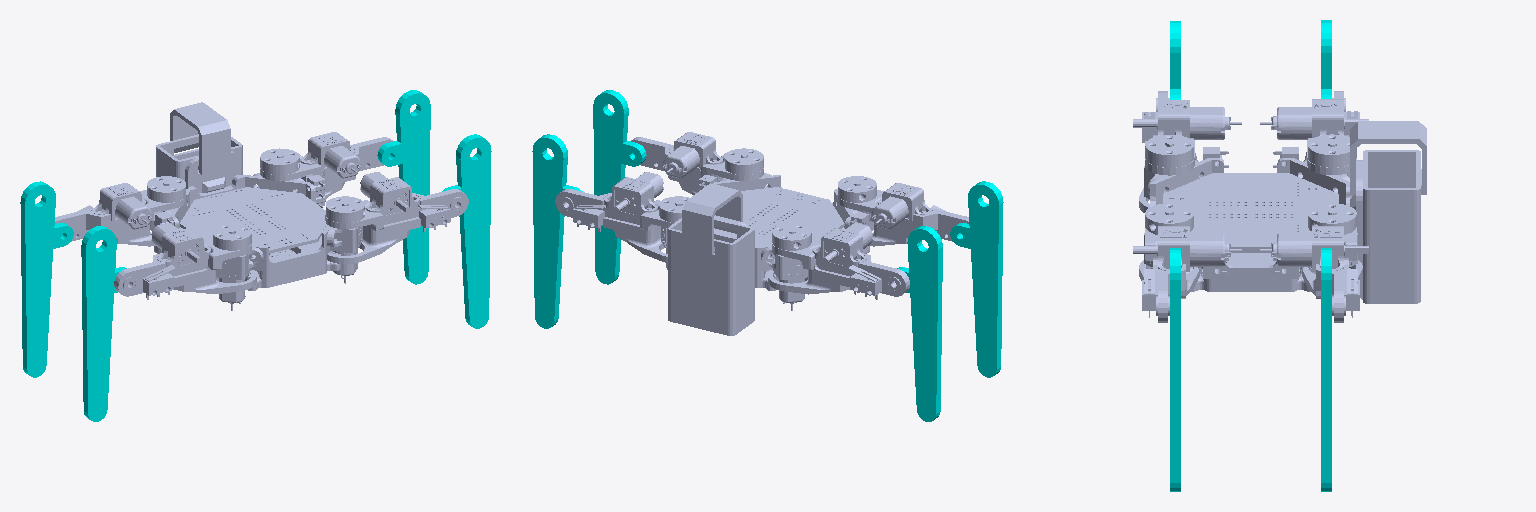
The robot description file, URDF, robot "spider-viz":
<?xml version="1.0" encoding="utf-8"?>
<!-- This URDF was automatically created by SolidWorks to URDF Exporter! Originally created by [author] ([email redacted]) 
     Commit Version: 1.6.0-4-g7f85cfe  Build Version: 1.6.7995.38578
     For more information, please see http://wiki.ros.org/sw_urdf_exporter -->
<robot
  name="spider-viz">
  <link
    name="base_link">
    <inertial>
      <origin
        xyz="0.0266900629514275 0.0373682215528626 0.0414401671660664"
        rpy="0 0 0" />
      <mass
        value="0.0599747186219502" />
      <inertia
        ixx="1.77017378156563E-05"
        ixy="8.82629017457995E-11"
        ixz="4.93027123446305E-10"
        iyy="2.88229975274139E-05"
        iyz="5.45278550957386E-08"
        izz="1.74156454854551E-05" />
    </inertial>
    <visual>
      <origin
        xyz="0 0 0"
        rpy="0 0 0" />
      <geometry>
        <mesh
          filename="package://spider-viz/meshes/base_link.STL" />
      </geometry>
      <material
        name="">
        <color
          rgba="0.792156862745098 0.819607843137255 0.933333333333333 1" />
      </material>
    </visual>
    <collision>
      <origin
        xyz="0 0 0"
        rpy="0 0 0" />
      <geometry>
        <mesh
          filename="package://spider-viz/meshes/base_link.STL" />
      </geometry>
    </collision>
  </link>
  <link
    name="Upper0_Link">
    <inertial>
      <origin
        xyz="0.021476139074384 0.015254727578512 -0.0014907670536348"
        rpy="0 0 0" />
      <mass
        value="0.0112993413960727" />
      <inertia
        ixx="4.17757958138213E-07"
        ixy="6.32246142390847E-08"
        ixz="-4.83397104885625E-08"
        iyy="1.7602699581182E-06"
        iyz="-7.47401160587861E-10"
        izz="1.54529235020534E-06" />
    </inertial>
    <visual>
      <origin
        xyz="0 0 0"
        rpy="0 0 0" />
      <geometry>
        <mesh
          filename="package://spider-viz/meshes/Upper0_Link.STL" />
      </geometry>
      <material
        name="">
        <color
          rgba="0.792156862745098 0.819607843137255 0.933333333333333 1" />
      </material>
    </visual>
    <collision>
      <origin
        xyz="0 0 0"
        rpy="0 0 0" />
      <geometry>
        <mesh
          filename="package://spider-viz/meshes/Upper0_Link.STL" />
      </geometry>
    </collision>
  </link>
  <joint
    name="Upper0"
    type="revolute">
    <origin
      xyz="-0.00245284745286685 -0.0237725392912402 0.0320074126580795"
      rpy="1.5707963267949 0 3.14159265358979" />
    <parent
      link="base_link" />
    <child
      link="Upper0_Link" />
    <axis
      xyz="0 1 0" />
    <limit
      effort="1000.0" lower="-1.57" upper="0.17" velocity="0.5"/>
  </joint>
  <link
    name="Lower0_Link">
    <inertial>
      <origin
        xyz="-0.00200000000000073 -0.0121644422551732 0.0152866791815001"
        rpy="0 0 0" />
      <mass
        value="0.00511403475106287" />
      <inertia
        ixx="3.40097557199021E-06"
        ixy="-4.0355113211309E-22"
        ixz="4.91401358931856E-22"
        iyy="3.28327036320465E-06"
        iyz="1.35078946161002E-07"
        izz="1.31342634788399E-07" />
    </inertial>
    <visual>
      <origin
        xyz="0 0 0"
        rpy="0 0 0" />
      <geometry>
        <mesh
          filename="package://spider-viz/meshes/Lower0_Link.STL" />
      </geometry>
      <material
        name="">
        <color
          rgba="0 1 1 1" />
      </material>
    </visual>
    <collision>
      <origin
        xyz="0 0 0"
        rpy="0 0 0" />
      <geometry>
        <mesh
          filename="package://spider-viz/meshes/Lower0_Link.STL" />
      </geometry>
    </collision>
  </link>
  <joint
    name="Lower0"
    type="revolute">
    <origin
      xyz="0.0550943670538193 0.01315 -9.9999999999479E-05"
      rpy="1.57079632679491 -1.5707963267949 0" />
    <parent
      link="Upper0_Link" />
    <child
      link="Lower0_Link" />
    <axis
      xyz="1 0 0" />
    <limit
      effort="1000.0" lower="-0.96" upper="0.70" velocity="0.5"/>
  </joint>
  <link
    name="Upper1_Link">
    <inertial>
      <origin
        xyz="0.0213801728228362 0.0152547283369141 0.0014673545578197"
        rpy="0 0 0" />
      <mass
        value="0.0112993383446934" />
      <inertia
        ixx="4.17757830091756E-07"
        ixy="6.31950953264347E-08"
        ixz="4.92357002610727E-08"
        iyy="1.76026956304799E-06"
        iyz="7.53422005757815E-10"
        izz="1.54529208399824E-06" />
    </inertial>
    <visual>
      <origin
        xyz="0 0 0"
        rpy="0 0 0" />
      <geometry>
        <mesh
          filename="package://spider-viz/meshes/Upper1_Link.STL" />
      </geometry>
      <material
        name="">
        <color
          rgba="0.792156862745098 0.819607843137255 0.933333333333333 1" />
      </material>
    </visual>
    <collision>
      <origin
        xyz="0 0 0"
        rpy="0 0 0" />
      <geometry>
        <mesh
          filename="package://spider-viz/meshes/Upper1_Link.STL" />
      </geometry>
    </collision>
  </link>
  <joint
    name="Upper1"
    type="revolute">
    <origin
      xyz="-0.0024528474528662 -0.0820568105387026 0.0320074126580794"
      rpy="1.5707963267949 0 3.14159265358979" />
    <parent
      link="base_link" />
    <child
      link="Upper1_Link" />
    <axis
      xyz="0 1 0" />
      <limit
      effort="1000.0" lower="-0.17" upper="1.85" velocity="0.5"/>
  </joint>
  <link
    name="Lower1_Link">
    <inertial>
      <origin
        xyz="0.0020000000000001 -0.012164442255174 0.0152866791815"
        rpy="0 0 0" />
      <mass
        value="0.00511403475106288" />
      <inertia
        ixx="3.40097557199021E-06"
        ixy="-4.11618944416582E-22"
        ixz="5.39851538017933E-22"
        iyy="3.28327036320465E-06"
        iyz="1.35078946161002E-07"
        izz="1.31342634788399E-07" />
    </inertial>
    <visual>
      <origin
        xyz="0 0 0"
        rpy="0 0 0" />
      <geometry>
        <mesh
          filename="package://spider-viz/meshes/Lower1_Link.STL" />
      </geometry>
      <material
        name="">
        <color
          rgba="0 1 1 1" />
      </material>
    </visual>
    <collision>
      <origin
        xyz="0 0 0"
        rpy="0 0 0" />
      <geometry>
        <mesh
          filename="package://spider-viz/meshes/Lower1_Link.STL" />
      </geometry>
    </collision>
  </link>
  <joint
    name="Lower1"
    type="revolute">
    <origin
      xyz="0.055 0.0131500000000001 9.99999999997392E-05"
      rpy="1.57079632679491 -1.5707963267949 0" />
    <parent
      link="Upper1_Link" />
    <child
      link="Lower1_Link" />
    <axis
      xyz="1 0 0" />
    <limit
      effort="1000.0" lower="-0.96" upper="0.70" velocity="0.5"/>
  </joint>
  <link
    name="Upper2_Link">
    <inertial>
      <origin
        xyz="0.0214745398766555 0.0152547283369141 0.00146735455781985"
        rpy="0 0 0" />
      <mass
        value="0.0112993383446934" />
      <inertia
        ixx="4.17757830091755E-07"
        ixy="6.31950953264345E-08"
        ixz="4.92357002610657E-08"
        iyy="1.76026956304799E-06"
        iyz="7.53422005758282E-10"
        izz="1.54529208399824E-06" />
    </inertial>
    <visual>
      <origin
        xyz="0 0 0"
        rpy="0 0 0" />
      <geometry>
        <mesh
          filename="package://spider-viz/meshes/Upper2_Link.STL" />
      </geometry>
      <material
        name="">
        <color
          rgba="0.792156862745098 0.819607843137255 0.933333333333333 1" />
      </material>
    </visual>
    <collision>
      <origin
        xyz="0 0 0"
        rpy="0 0 0" />
      <geometry>
        <mesh
          filename="package://spider-viz/meshes/Upper2_Link.STL" />
      </geometry>
    </collision>
  </link>
  <joint
    name="Upper2"
    type="revolute">
    <origin
      xyz="0.055831423794595 -0.02377253929124 0.0320074126580794"
      rpy="1.5707963267949 0 0" />
    <parent
      link="base_link" />
    <child
      link="Upper2_Link" />
    <axis
      xyz="0 1 0" />
    <limit
      effort="1000.0" lower="-0.17" upper="1.57" velocity="0.5"/>
  </joint>
  <link
    name="Lower2_Link">
    <inertial>
      <origin
        xyz="0.00200000000000116 -0.0121644422551723 0.0152866791815003"
        rpy="0 0 0" />
      <mass
        value="0.00511403475106288" />
      <inertia
        ixx="3.40097557199021E-06"
        ixy="-2.42025679605417E-21"
        ixz="6.79340847722994E-20"
        iyy="3.28327036320465E-06"
        iyz="1.35078946160937E-07"
        izz="1.31342634788394E-07" />
    </inertial>
    <visual>
      <origin
        xyz="0 0 0"
        rpy="0 0 0" />
      <geometry>
        <mesh
          filename="package://spider-viz/meshes/Lower2_Link.STL" />
      </geometry>
      <material
        name="">
        <color
          rgba="0 1 1 1" />
      </material>
    </visual>
    <collision>
      <origin
        xyz="0 0 0"
        rpy="0 0 0" />
      <geometry>
        <mesh
          filename="package://spider-viz/meshes/Lower2_Link.STL" />
      </geometry>
    </collision>
  </link>
  <joint
    name="Lower2"
    type="revolute">
    <origin
      xyz="0.0550943670538194 0.0131500000000001 0.000100000000000329"
      rpy="1.57079632679489 -1.5707963267949 0" />
    <parent
      link="Upper2_Link" />
    <child
      link="Lower2_Link" />
    <axis
      xyz="1 0 0" />
    <limit
      effort="1000.0" lower="-0.96" upper="0.70" velocity="0.5"/>
  </joint>
  <link
    name="Upper3_Link">
    <inertial>
      <origin
        xyz="0.0214761390743841 0.0152547275785121 -0.00149076705363482"
        rpy="0 0 0" />
      <mass
        value="0.0112993413960727" />
      <inertia
        ixx="4.17757958138214E-07"
        ixy="6.32246142390847E-08"
        ixz="-4.83397104885701E-08"
        iyy="1.76026995811821E-06"
        iyz="-7.47401160587356E-10"
        izz="1.54529235020535E-06" />
    </inertial>
    <visual>
      <origin
        xyz="0 0 0"
        rpy="0 0 0" />
      <geometry>
        <mesh
          filename="package://spider-viz/meshes/Upper3_Link.STL" />
      </geometry>
      <material
        name="">
        <color
          rgba="0.792156862745098 0.819607843137255 0.933333333333333 1" />
      </material>
    </visual>
    <collision>
      <origin
        xyz="0 0 0"
        rpy="0 0 0" />
      <geometry>
        <mesh
          filename="package://spider-viz/meshes/Upper3_Link.STL" />
      </geometry>
    </collision>
  </link>
  <joint
    name="Upper3"
    type="revolute">
    <origin
      xyz="0.0558314237945942 -0.082056810538703 0.0320074126580794"
      rpy="1.5707963267949 0 0" />
    <parent
      link="base_link" />
    <child
      link="Upper3_Link" />
    <axis
      xyz="0 1 0" />
    <limit
      effort="1000.0" lower="-1.85" upper="0.17" velocity="0.5"/>
  </joint>
  <link
    name="Lower3_Link">
    <inertial>
      <origin
        xyz="-0.00200000000000015 -0.0121644422551734 0.0152866791814997"
        rpy="0 0 0" />
      <mass
        value="0.00511403475106288" />
      <inertia
        ixx="3.40097557199022E-06"
        ixy="-1.22157413983963E-21"
        ixz="1.42154197655372E-21"
        iyy="3.28327036320466E-06"
        iyz="1.35078946160937E-07"
        izz="1.31342634788394E-07" />
    </inertial>
    <visual>
      <origin
        xyz="0 0 0"
        rpy="0 0 0" />
      <geometry>
        <mesh
          filename="package://spider-viz/meshes/Lower3_Link.STL" />
      </geometry>
      <material
        name="">
        <color
          rgba="0 1 1 1" />
      </material>
    </visual>
    <collision>
      <origin
        xyz="0 0 0"
        rpy="0 0 0" />
      <geometry>
        <mesh
          filename="package://spider-viz/meshes/Lower3_Link.STL" />
      </geometry>
    </collision>
  </link>
  <joint
    name="Lower3"
    type="revolute">
    <origin
      xyz="0.0550943670538194 0.0131500000000001 -0.000100000000001266"
      rpy="1.57079632679489 -1.5707963267949 0" />
    <parent
      link="Upper3_Link" />
    <child
      link="Lower3_Link" />
    <axis
      xyz="1 0 0" />
    <limit
      effort="1000.0" lower="-0.96" upper="0.70" velocity="0.5"/>
  </joint>
</robot>

--- Render facts (derived) ---
Views: 3 orthographic renders of the robot side by side, from view 1: azimuth 30°, elevation 25°; view 2: azimuth 150°, elevation 25°; view 3: azimuth 270°, elevation 25°.
Model spider-viz with 9 links and 8 joints (8 revolute), rooted at base_link, posed every joint at zero.
Links seen in each view (by area): view 1: base_link, Upper3_Link, Upper1_Link, Lower0_Link, Lower1_Link, Lower3_Link, Lower2_Link, Upper0_Link, Upper2_Link; view 2: base_link, Upper0_Link, Lower1_Link, Upper2_Link, Lower0_Link, Lower2_Link, Lower3_Link, Upper1_Link, Upper3_Link; view 3: base_link, Upper2_Link, Upper3_Link, Upper1_Link, Upper0_Link, Lower2_Link, Lower3_Link, Lower0_Link, Lower1_Link.
Boxes of the visible links, <box> form: base_link: <box>150,102,362,310</box>; Upper3_Link: <box>325,172,468,263</box>; Upper1_Link: <box>114,223,256,299</box>; Lower0_Link: <box>20,181,73,377</box>; Lower1_Link: <box>81,226,126,421</box>; Lower3_Link: <box>442,134,491,328</box>; Lower2_Link: <box>377,90,430,284</box>; Upper0_Link: <box>55,176,186,246</box>; Upper2_Link: <box>260,132,392,198</box>; base_link: <box>661,154,873,335</box>; Upper0_Link: <box>768,223,909,299</box>; Lower1_Link: <box>950,181,1003,377</box>; Upper2_Link: <box>555,172,688,262</box>; Lower0_Link: <box>897,226,942,421</box>; Lower2_Link: <box>532,134,582,328</box>; Lower3_Link: <box>593,90,646,284</box>; Upper1_Link: <box>837,176,968,246</box>; Upper3_Link: <box>631,132,763,194</box>; base_link: <box>1144,121,1426,303</box>; Upper2_Link: <box>1260,203,1368,322</box>; Upper3_Link: <box>1133,203,1241,322</box>; Upper1_Link: <box>1133,91,1241,212</box>; Upper0_Link: <box>1260,91,1368,174</box>; Lower2_Link: <box>1321,248,1331,491</box>; Lower3_Link: <box>1170,248,1180,491</box>; Lower0_Link: <box>1321,20,1331,98</box>; Lower1_Link: <box>1170,21,1180,99</box>.
Bounding box of the posed robot: 0.2088 × 0.1057 × 0.0966 m (x, y, z).
Meshes: 9 distinct files referenced, 9 mesh visuals loaded (9 binary STL).